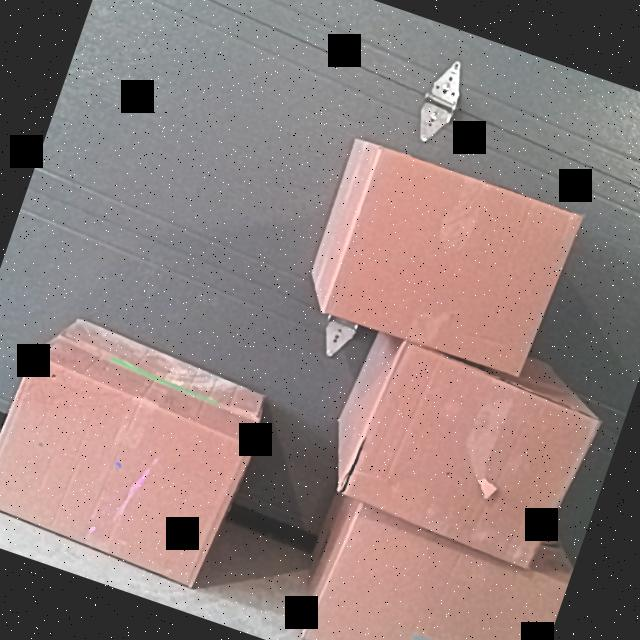box: (320, 144, 580, 380), (0, 352, 253, 583), (340, 336, 590, 566), (301, 502, 569, 640)
